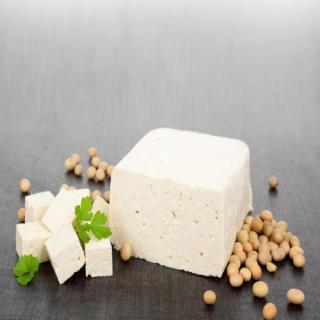Tahu: (95, 111, 265, 291)
